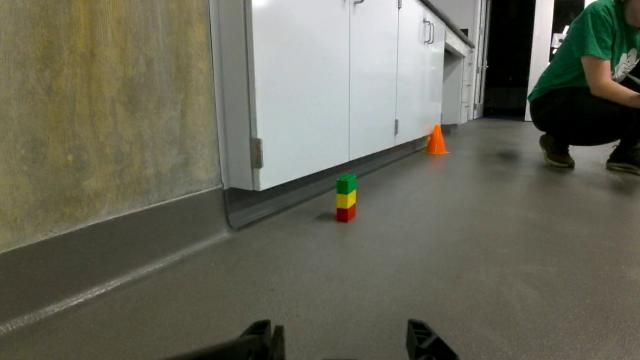lego: (329, 165, 360, 226)
